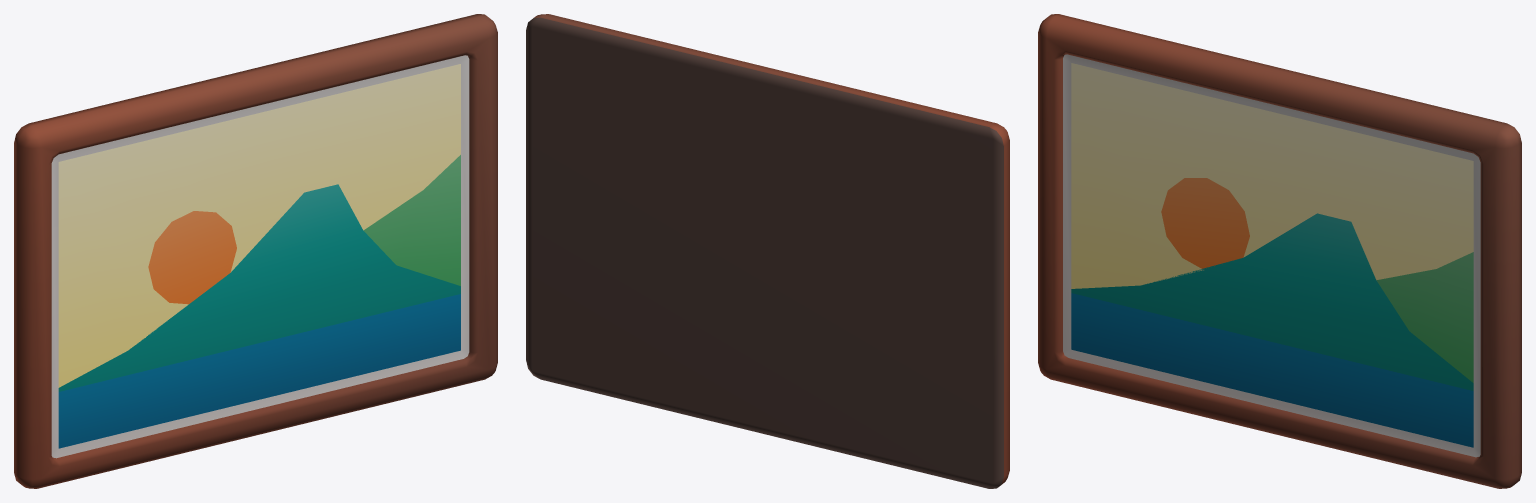
File: Picture_11.glb
3 views of the same model, side by side, from view 1: azimuth 30°, elevation 25°; view 2: azimuth 150°, elevation 25°; view 3: azimuth 330°, elevation 25° (orthographic).
Visible parts, largest first — view 1: Picture_11; view 2: Picture_11; view 3: Picture_11.
Part boxes in pixels (<box>): Picture_11: <box>14,14,497,488</box>; Picture_11: <box>526,14,1009,488</box>; Picture_11: <box>1038,14,1521,488</box>.
Bounding box in the file's own units: 1.12 × 0.8087 × 0.0585.
Materials: 1 (1 with a texture image).
